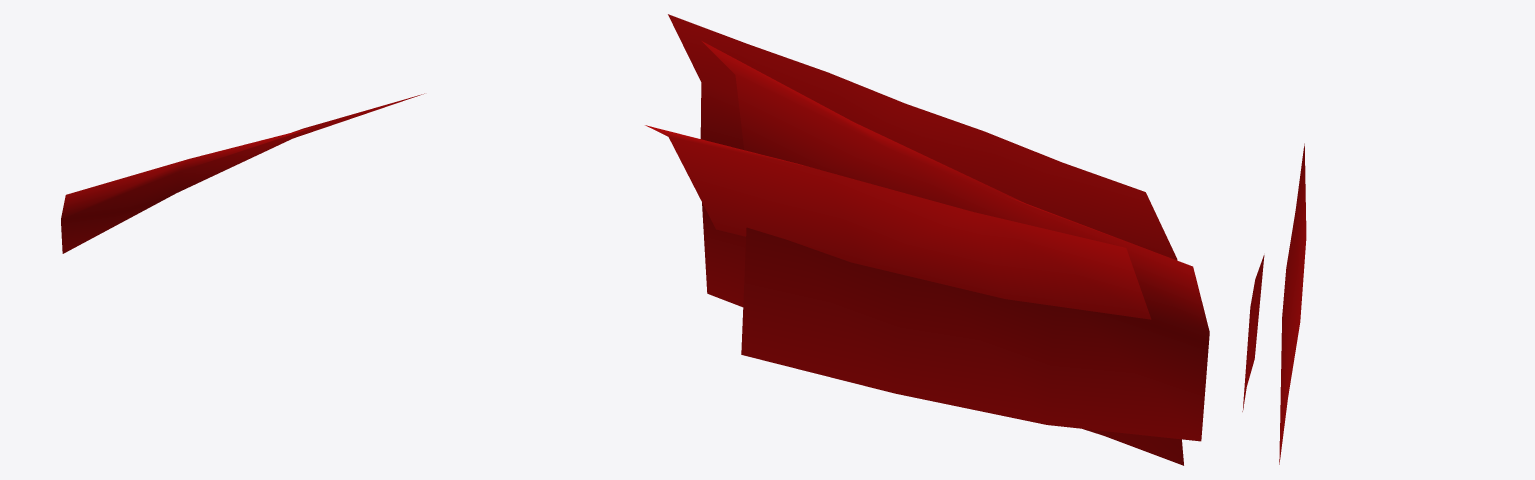
The model's file is Attic_NotesCurled_01_LP.glb.
3 renders of one model, left to right at view 1: azimuth 30°, elevation 25°; view 2: azimuth 150°, elevation 25°; view 3: azimuth 270°, elevation 25°, orthographic. The views are drawn at different scales.
Visible parts, largest first — view 1: Attic_NotesCurled_01_LP; view 2: Attic_NotesCurled_01_LP; view 3: Attic_NotesCurled_01_LP.
Part boxes in pixels (x1,y1,x2,y2): Attic_NotesCurled_01_LP: [61, 93, 424, 253]; Attic_NotesCurled_01_LP: [645, 14, 1209, 465]; Attic_NotesCurled_01_LP: [1242, 143, 1306, 464].
Size of the model in its own units: 0.3502 by 0.2499 by 0.1812.
